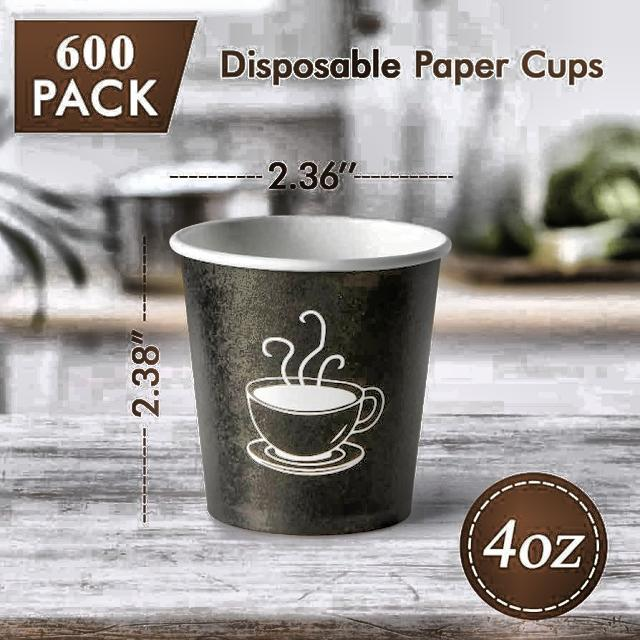Cup: (165, 204, 462, 550)
